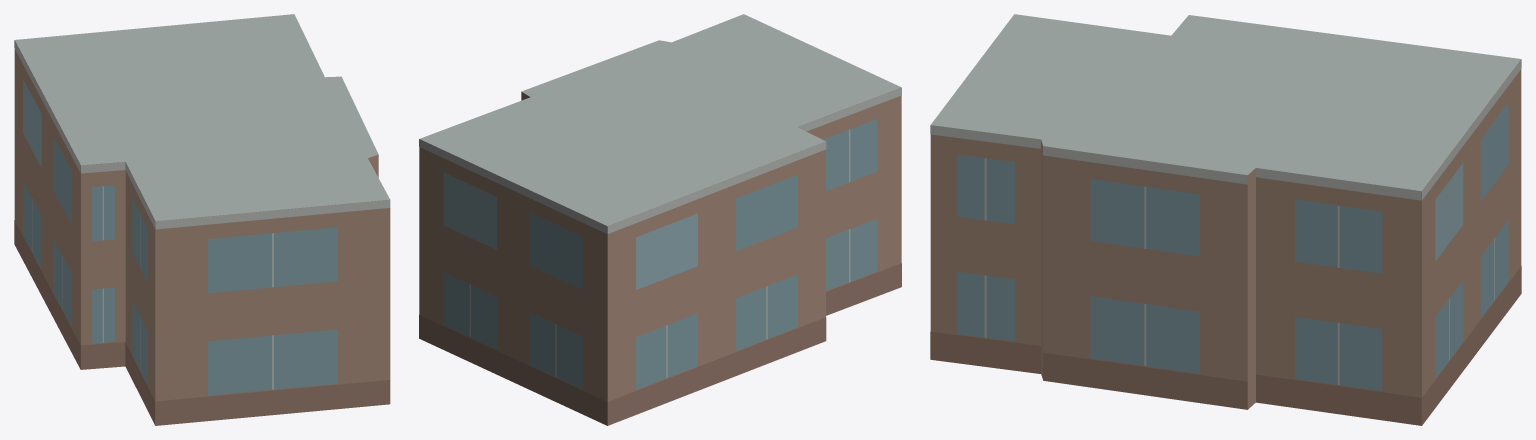
File: survey-upis-32884025.glb
3 renders of one model, left to right at view 1: azimuth 30°, elevation 25°; view 2: azimuth 150°, elevation 25°; view 3: azimuth 270°, elevation 25°, orthographic. The views are drawn at different scales.
Parts seen in each view (by area): view 1: survey-upis-32884025.tmp; view 2: survey-upis-32884025.tmp; view 3: survey-upis-32884025.tmp.
Boxes of the visible parts, box(x1,y1,x2,y2) form: survey-upis-32884025.tmp: box(14, 14, 390, 425); survey-upis-32884025.tmp: box(419, 14, 901, 425); survey-upis-32884025.tmp: box(930, 14, 1521, 425).
Size of the model in its own units: 9.89 by 6.1 by 13.94.
